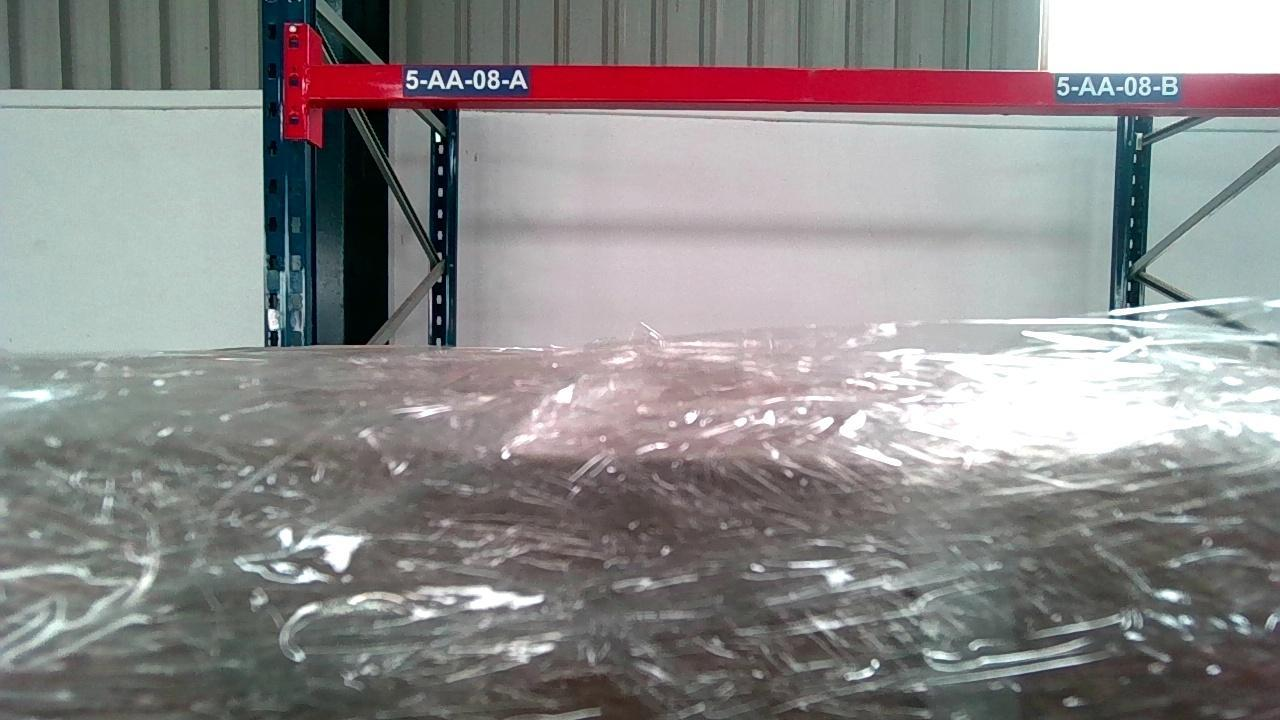h_rack: (317, 64, 1277, 103)
